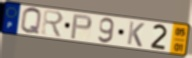2: (150, 24, 168, 51)
9: (97, 17, 115, 44)
K: (126, 20, 146, 48)
P: (69, 14, 93, 41)
Q: (20, 7, 43, 36)
R: (40, 9, 65, 39)
